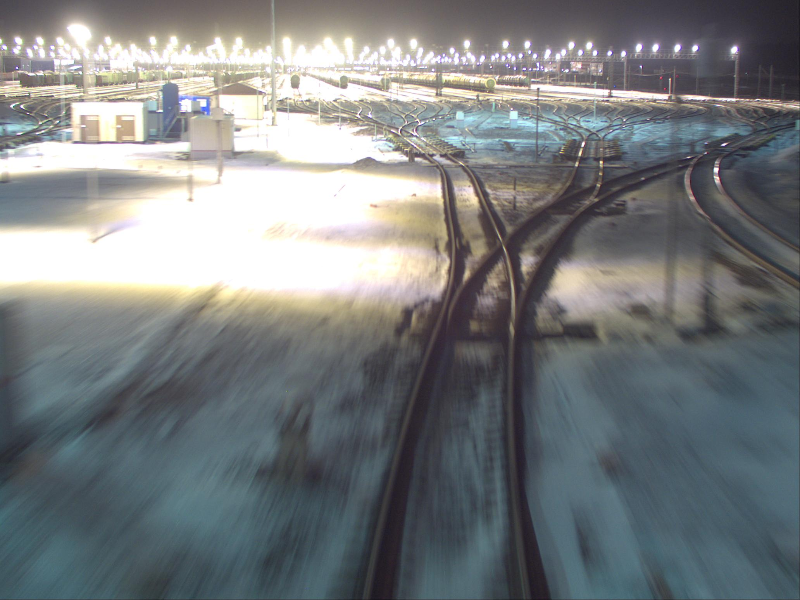railway_arrows: (433, 230, 541, 374)
